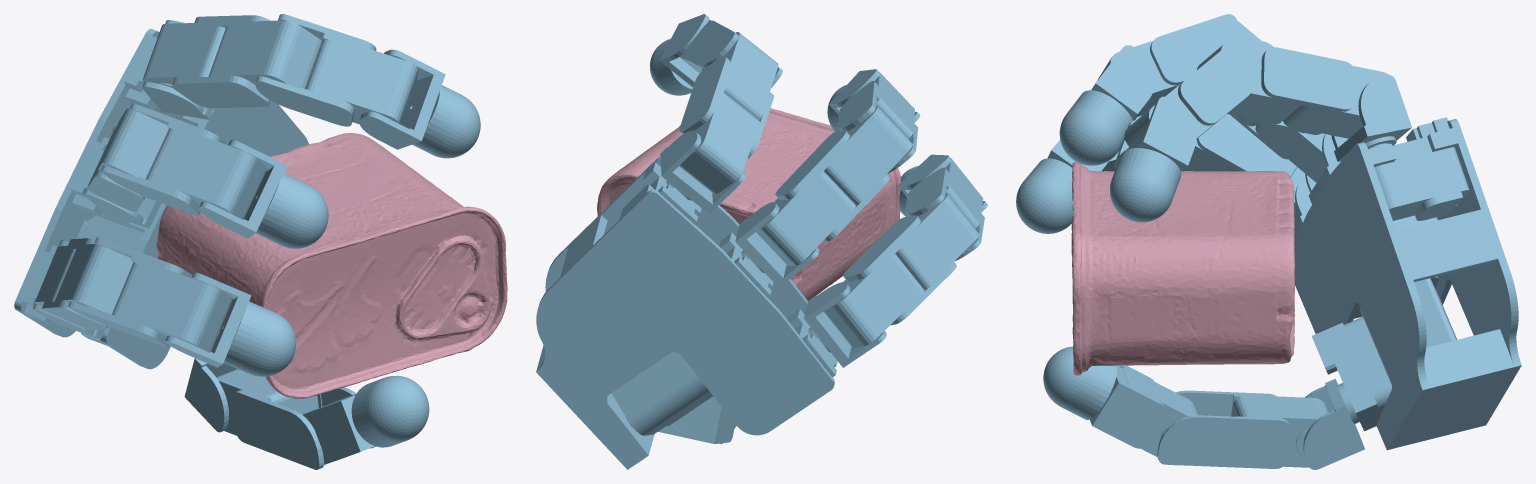
3 views of the same model, side by side, from view 1: azimuth 30°, elevation 25°; view 2: azimuth 150°, elevation 25°; view 3: azimuth 270°, elevation 25° (orthographic). The views are drawn at different scales.
Parts seen in each view (by area): view 1: world, potted_meat_can.stl; view 2: world, potted_meat_can.stl; view 3: world, potted_meat_can.stl.
Part boxes in pixels (box(x1,y1,x2,y2)): world: box(14, 14, 480, 469); potted_meat_can.stl: box(156, 133, 507, 398); world: box(536, 14, 987, 469); potted_meat_can.stl: box(597, 108, 900, 300); world: box(1016, 14, 1521, 469); potted_meat_can.stl: box(1071, 162, 1294, 375).
Size of the model in its own units: 0.1621 by 0.1732 by 0.1892.
